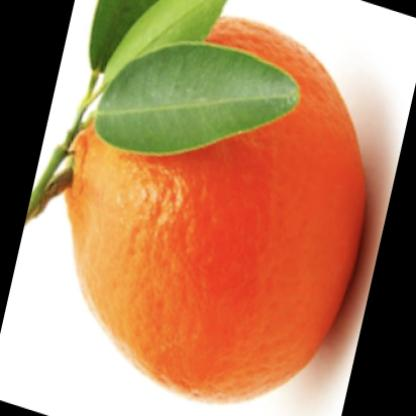fresh: (73, 19, 371, 398)
